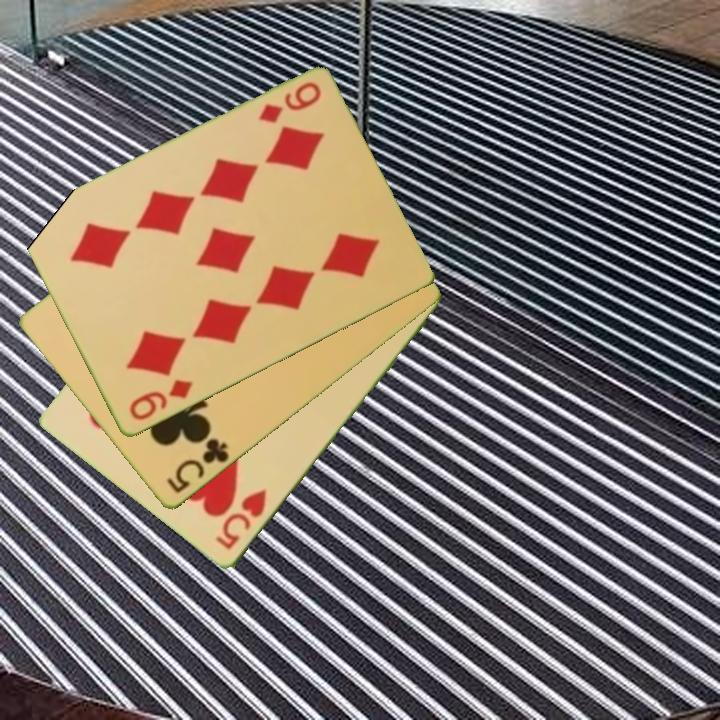5c: (163, 435, 232, 497)
5h: (212, 486, 270, 553)
9d: (254, 78, 324, 127), (125, 376, 196, 424)
